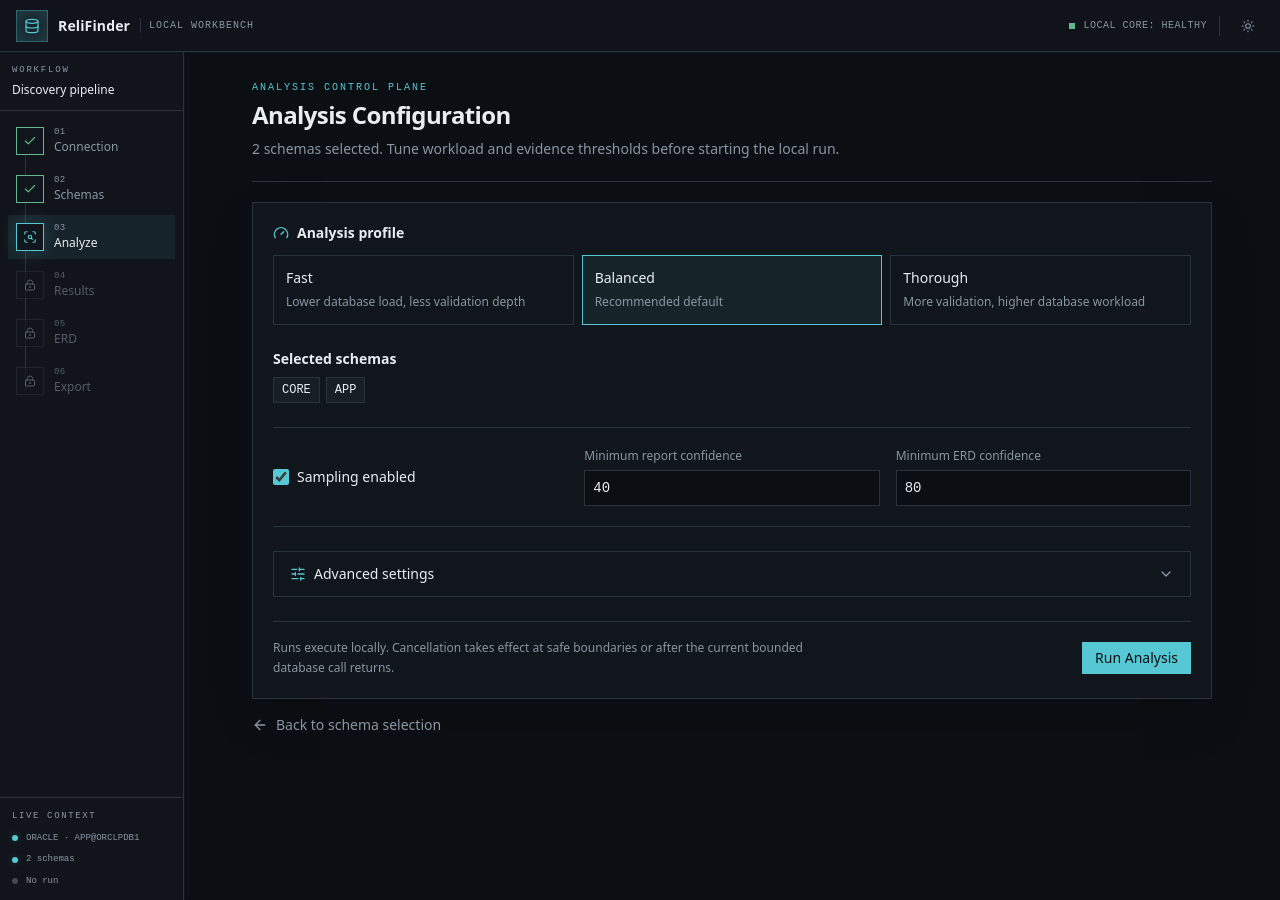
analysis configuration and run workflow › starts in Balanced and changes profiles deterministically
Click the button "Fast Lower database load, less validation depth" at (423, 290), box top-left (273, 255), bottom-right (574, 325)
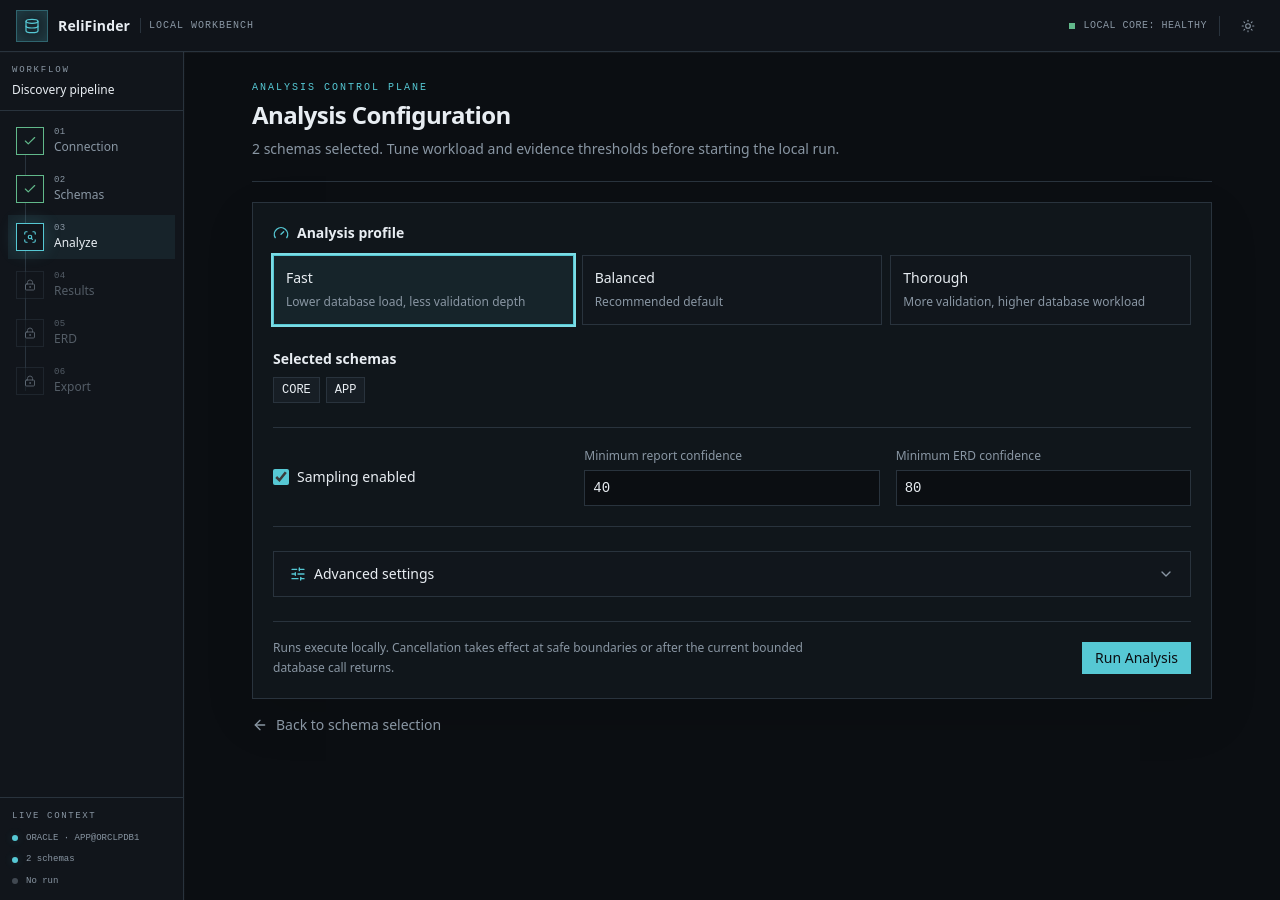
Click the heading "Advanced settings" at (374, 574), box top-left (290, 564), bottom-right (1174, 583)
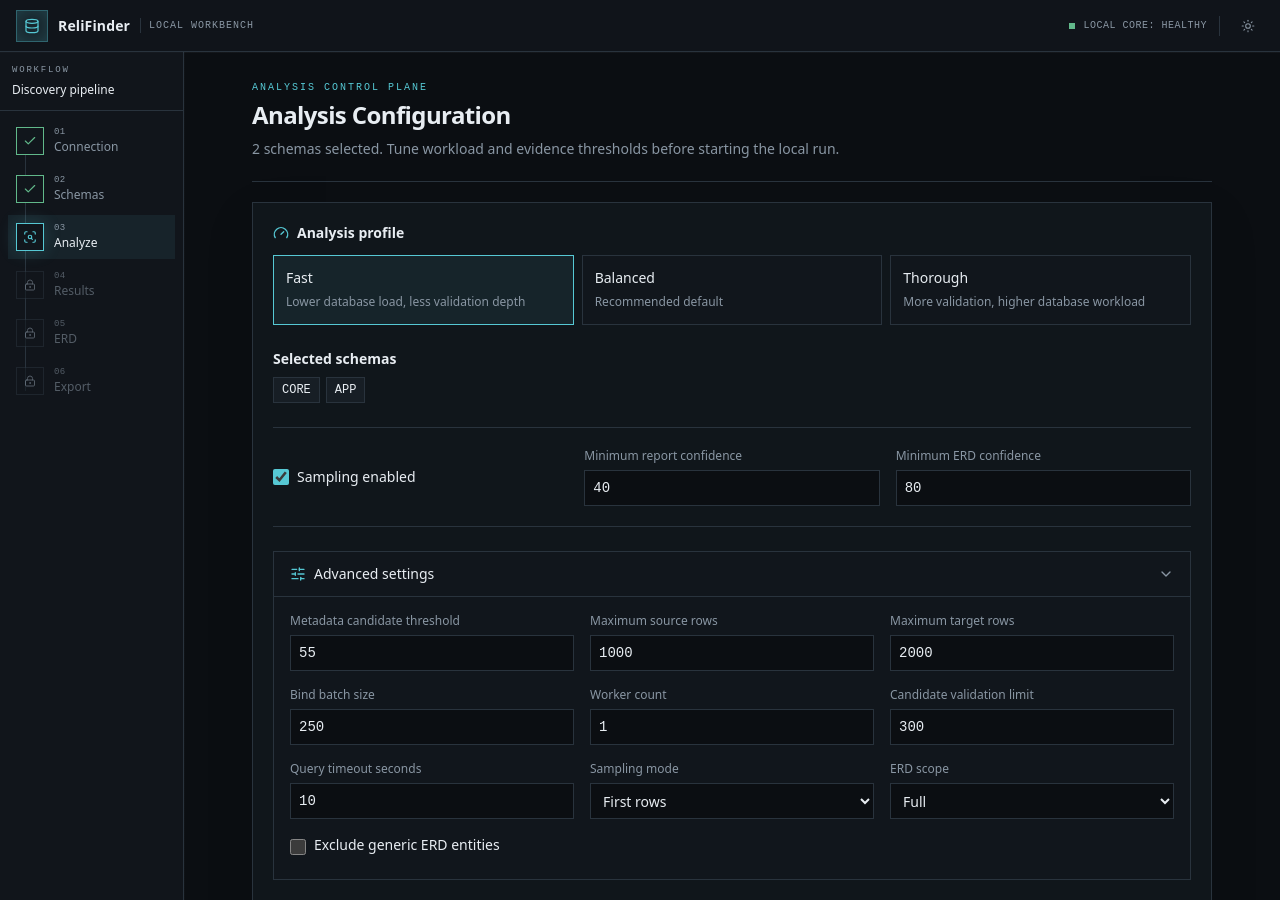
expect the number field labelled "Worker count" holds "1": met, box top-left (590, 709), bottom-right (874, 745)
expect the number field labelled "Metadata candidate threshold" holds "55": met, box top-left (290, 635), bottom-right (574, 671)
